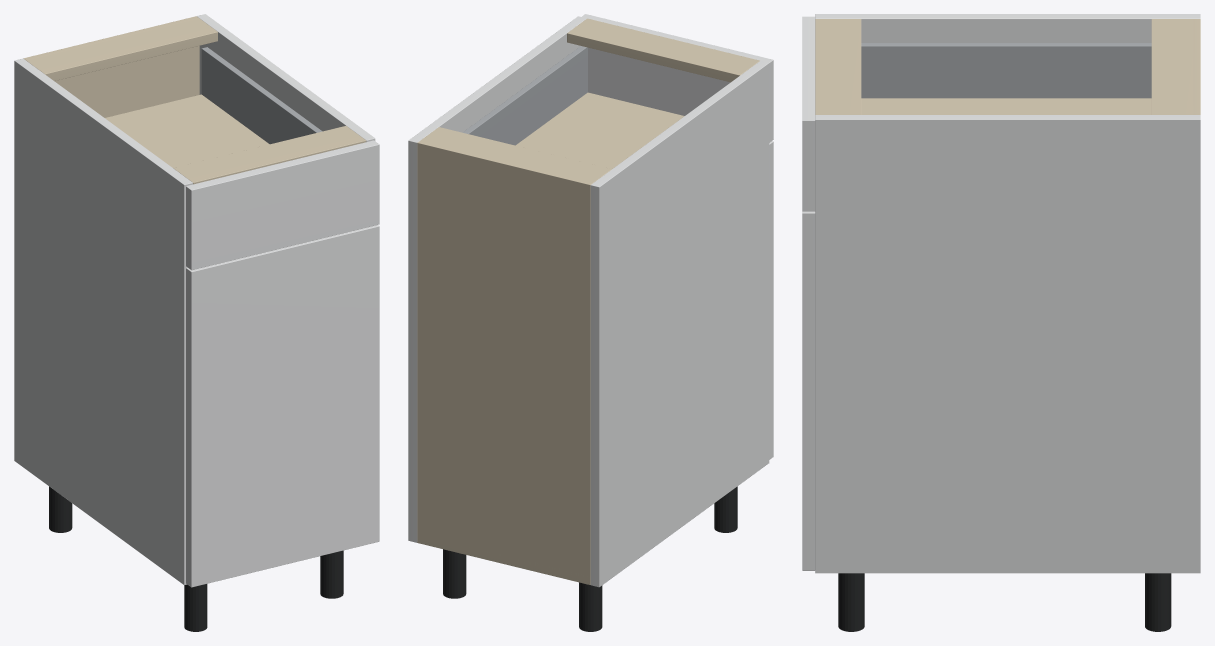
File: oppein-ply-pgw-b15.glb
3 renders of one model, left to right at view 1: azimuth 30°, elevation 25°; view 2: azimuth 150°, elevation 25°; view 3: azimuth 270°, elevation 25°, orthographic. The views are drawn at different scales.
Parts seen in each view (by area): view 1: Cabinet side, Door, Drawer front, Cabinet back, Drawer floor, Drawer side.001, Top support rail, Cabinet side.001, Top support rail.001, Adjustable foot.001, Adjustable foot.003, Adjustable foot; view 2: Cabinet side, Cabinet back, Cabinet side.001, Drawer floor, Drawer front, Drawer side.001, Top support rail.001, Top support rail, Door, Adjustable foot, Adjustable foot.002, Adjustable foot.001 (+1 smaller); view 3: Cabinet side.001, Drawer side, Cabinet side, Door, Drawer floor, Top support rail.001, Top support rail, Drawer front, Adjustable foot.002, Adjustable foot.003, Cabinet back.
Part boxes in pixels (left/top/right/bottom): Cabinet side: left=14, top=58, right=192, bottom=585; Door: left=186, top=225, right=379, bottom=587; Drawer front: left=186, top=140, right=379, bottom=270; Cabinet back: left=23, top=16, right=199, bottom=117; Drawer floor: left=105, top=94, right=269, bottom=167; Drawer side.001: left=201, top=47, right=322, bottom=144; Top support rail: left=25, top=18, right=217, bottom=80; Cabinet side.001: left=197, top=14, right=375, bottom=141; Top support rail.001: left=173, top=126, right=366, bottom=184; Adjustable foot.001: left=184, top=584, right=207, bottom=631; Adjustable foot.003: left=320, top=550, right=343, bottom=598; Adjustable foot: left=49, top=486, right=72, bottom=532; Cabinet side: left=590, top=60, right=769, bottom=587; Cabinet back: left=417, top=140, right=593, bottom=584; Cabinet side.001: left=408, top=16, right=586, bottom=542; Drawer floor: left=515, top=92, right=684, bottom=168; Drawer front: left=582, top=14, right=773, bottom=142; Drawer side.001: left=463, top=46, right=587, bottom=145; Top support rail.001: left=567, top=18, right=759, bottom=82; Top support rail: left=421, top=127, right=611, bottom=182; Door: left=769, top=141, right=773, bottom=459; Adjustable foot: left=579, top=582, right=602, bottom=631; Adjustable foot.002: left=443, top=549, right=466, bottom=598; Adjustable foot.001: left=714, top=486, right=737, bottom=532; Cabinet side.001: left=815, top=115, right=1200, bottom=573; Drawer side: left=861, top=43, right=1151, bottom=98; Cabinet side: left=815, top=14, right=1200, bottom=42; Door: left=802, top=211, right=815, bottom=570; Drawer floor: left=861, top=98, right=1151, bottom=114; Top support rail.001: left=815, top=19, right=861, bottom=114; Top support rail: left=1151, top=19, right=1193, bottom=114; Drawer front: left=802, top=16, right=815, bottom=211; Adjustable foot.002: left=1145, top=573, right=1171, bottom=631; Adjustable foot.003: left=838, top=573, right=864, bottom=631; Cabinet back: left=1193, top=19, right=1200, bottom=114.
Bounding box in the file's own units: 0.381 × 0.8763 × 0.6064.
